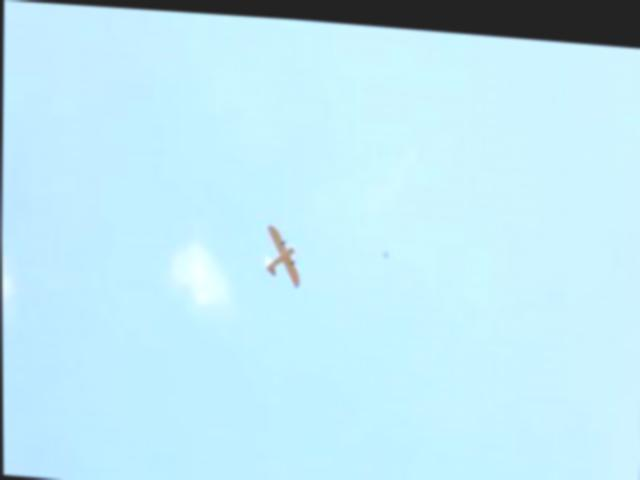uav: (259, 218, 303, 285)
